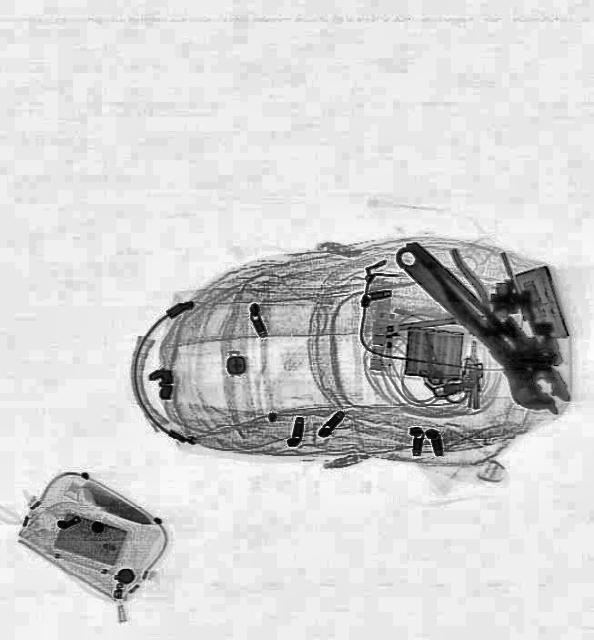Wrench: (380, 224, 580, 421)
